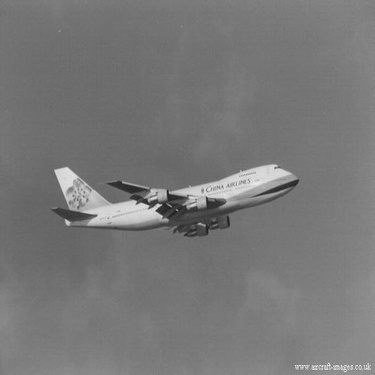airplane: (46, 162, 306, 243)
